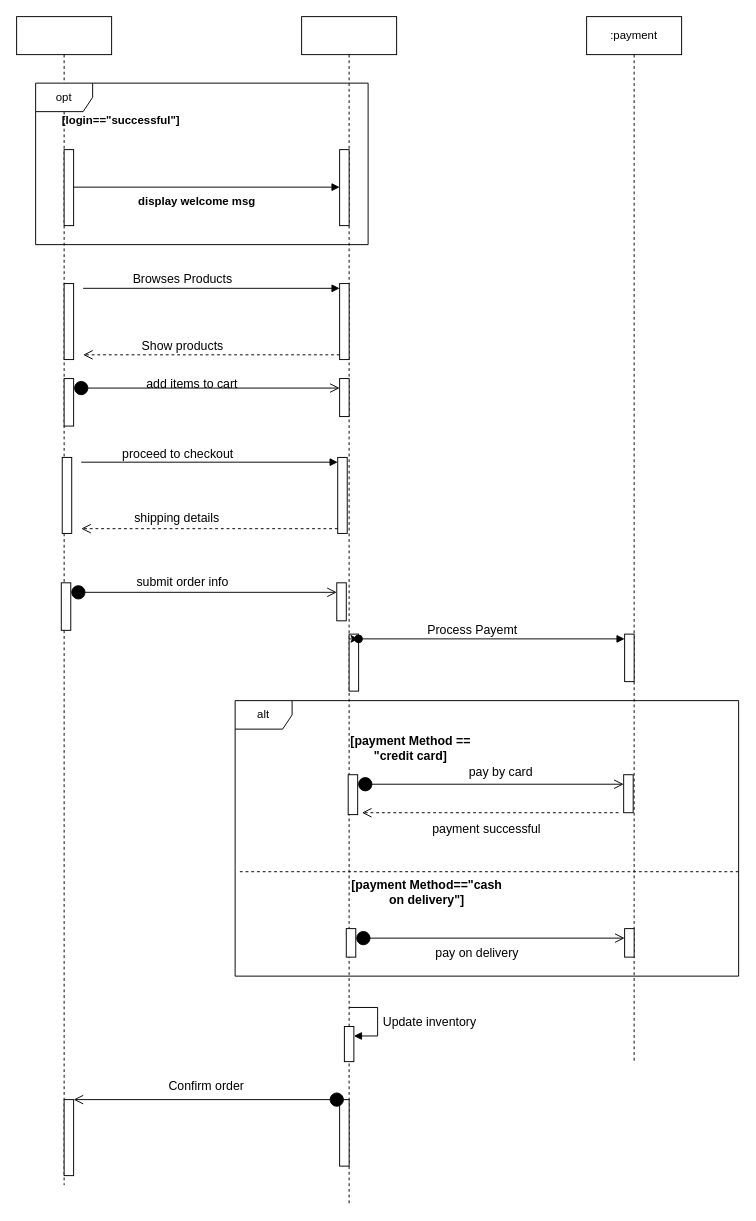
Some shapes in this 756 by 1221 pixel diagram are drawn without their labels. Each missing label, with the centre of its shape:
":customer" goes at (x=64, y=600).
":shopping website" goes at (x=349, y=610).
